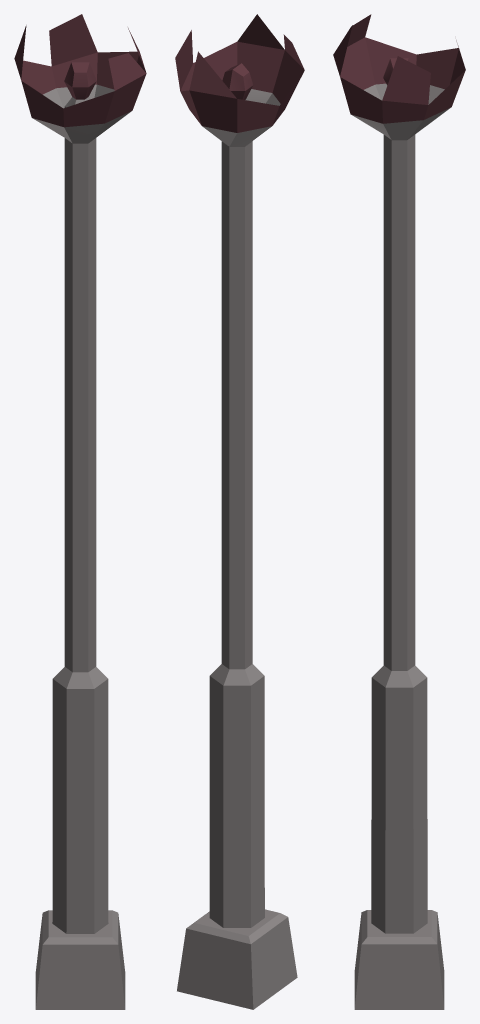
File: lamp-city-apocalypse-a.fbx
The picture shows the model from 3 angles, left to right: view 1: azimuth 90°, elevation 25°; view 2: azimuth 150°, elevation 25°; view 3: azimuth 270°, elevation 25°; orthographic projection.
Visible parts, largest first — view 1: lamp-city-apocalypse-a; view 2: lamp-city-apocalypse-a; view 3: lamp-city-apocalypse-a.
Boxes of the visible parts, left/top/right/bottom form: lamp-city-apocalypse-a: left=14, top=14, right=146, bottom=1009; lamp-city-apocalypse-a: left=175, top=14, right=304, bottom=1009; lamp-city-apocalypse-a: left=333, top=14, right=465, bottom=1009.
Bounding box in the file's own units: 0.7419 × 6.53 × 0.8121.
